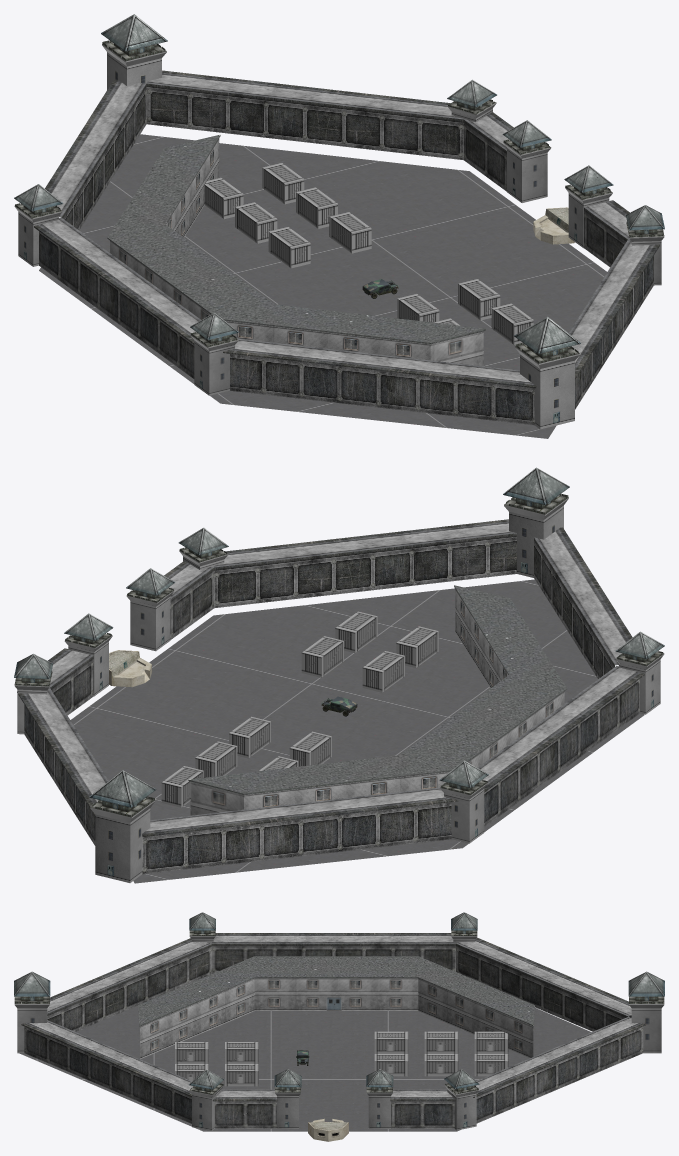
The picture shows the model from 3 angles, top to bottom: view 1: azimuth 30°, elevation 25°; view 2: azimuth 150°, elevation 25°; view 3: azimuth 270°, elevation 25°; orthographic projection. The views are drawn at different scales.
Visible parts, largest first — view 1: ground, barraks, wall_6, wall_3, wall_4, wall_5, wall_2, tower_012, wall_1, tower_011, tower_009, tower_014 (+14 smaller); view 2: ground, barraks, wall_2, wall_5, wall_4, wall_3, wall_6, tower_011, wall_1, tower_012, tower_4, tower_015 (+13 smaller); view 3: ground, barraks, wall_6, wall_2, wall_5, wall_3, wall_4, wall_1, tower_011, tower_012, tower_010, tower_013 (+15 smaller).
Boxes of the visible parts, x1=… form: ground: x1=39, y1=134, x2=606, y2=438; barraks: x1=107, y1=134, x2=485, y2=366; wall_6: x1=146, y1=70, x2=463, y2=159; wall_3: x1=223, y1=338, x2=536, y2=425; wall_4: x1=34, y1=217, x2=200, y2=378; wall_5: x1=45, y1=80, x2=146, y2=229; wall_2: x1=569, y1=239, x2=659, y2=409; tower_012: x1=514, y1=316, x2=580, y2=429; wall_1: x1=463, y1=112, x2=629, y2=266; tower_011: x1=101, y1=14, x2=167, y2=89; tower_009: x1=502, y1=120, x2=551, y2=202; tower_014: x1=190, y1=312, x2=239, y2=395; ground: x1=70, y1=579, x2=644, y2=883; barraks: x1=188, y1=585, x2=567, y2=815; wall_2: x1=214, y1=519, x2=516, y2=608; wall_5: x1=142, y1=787, x2=458, y2=874; wall_4: x1=477, y1=666, x2=644, y2=826; wall_3: x1=534, y1=527, x2=632, y2=678; wall_6: x1=17, y1=688, x2=108, y2=845; tower_011: x1=89, y1=770, x2=156, y2=882; wall_1: x1=48, y1=560, x2=214, y2=715; tower_012: x1=503, y1=467, x2=569, y2=577; tower_4: x1=126, y1=568, x2=175, y2=651; tower_015: x1=439, y1=760, x2=488, y2=843; ground: x1=19, y1=1006, x2=591, y2=1131; barraks: x1=138, y1=956, x2=534, y2=1059; wall_6: x1=473, y1=1016, x2=646, y2=1123; wall_2: x1=21, y1=1020, x2=193, y2=1123; wall_5: x1=456, y1=937, x2=631, y2=1031; wall_3: x1=47, y1=938, x2=211, y2=1031; wall_4: x1=212, y1=933, x2=455, y2=973; wall_1: x1=212, y1=1089, x2=455, y2=1128; tower_011: x1=628, y1=971, x2=664, y2=1053; tower_012: x1=14, y1=971, x2=50, y2=1053; tower_010: x1=444, y1=1069, x2=479, y2=1130; tower_013: x1=189, y1=1069, x2=224, y2=1130.
Bounding box in the file's own units: 114 × 26.54 × 184.
